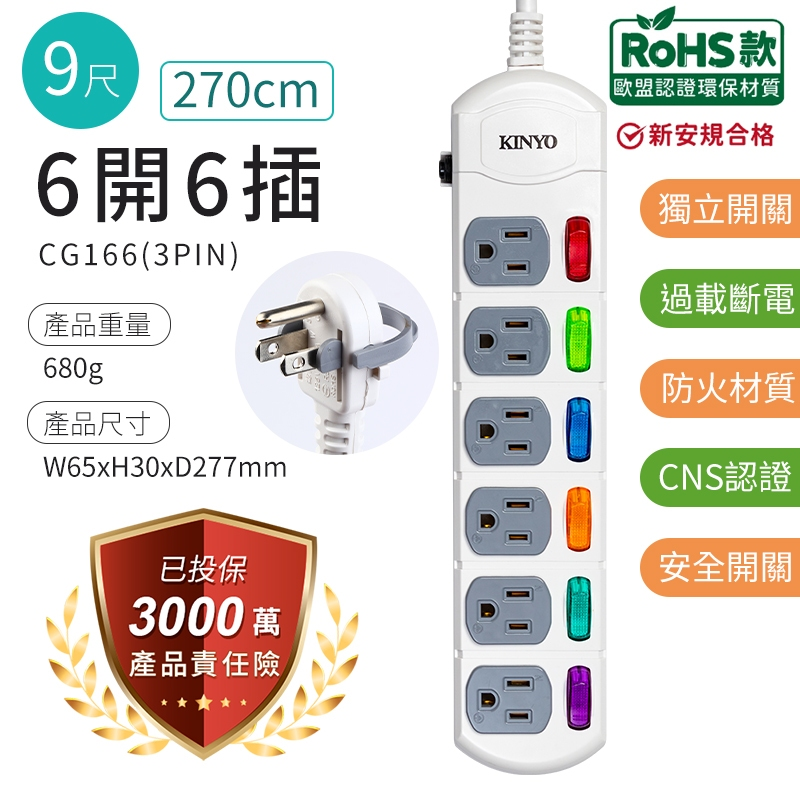socket: (436, 10, 608, 776)
